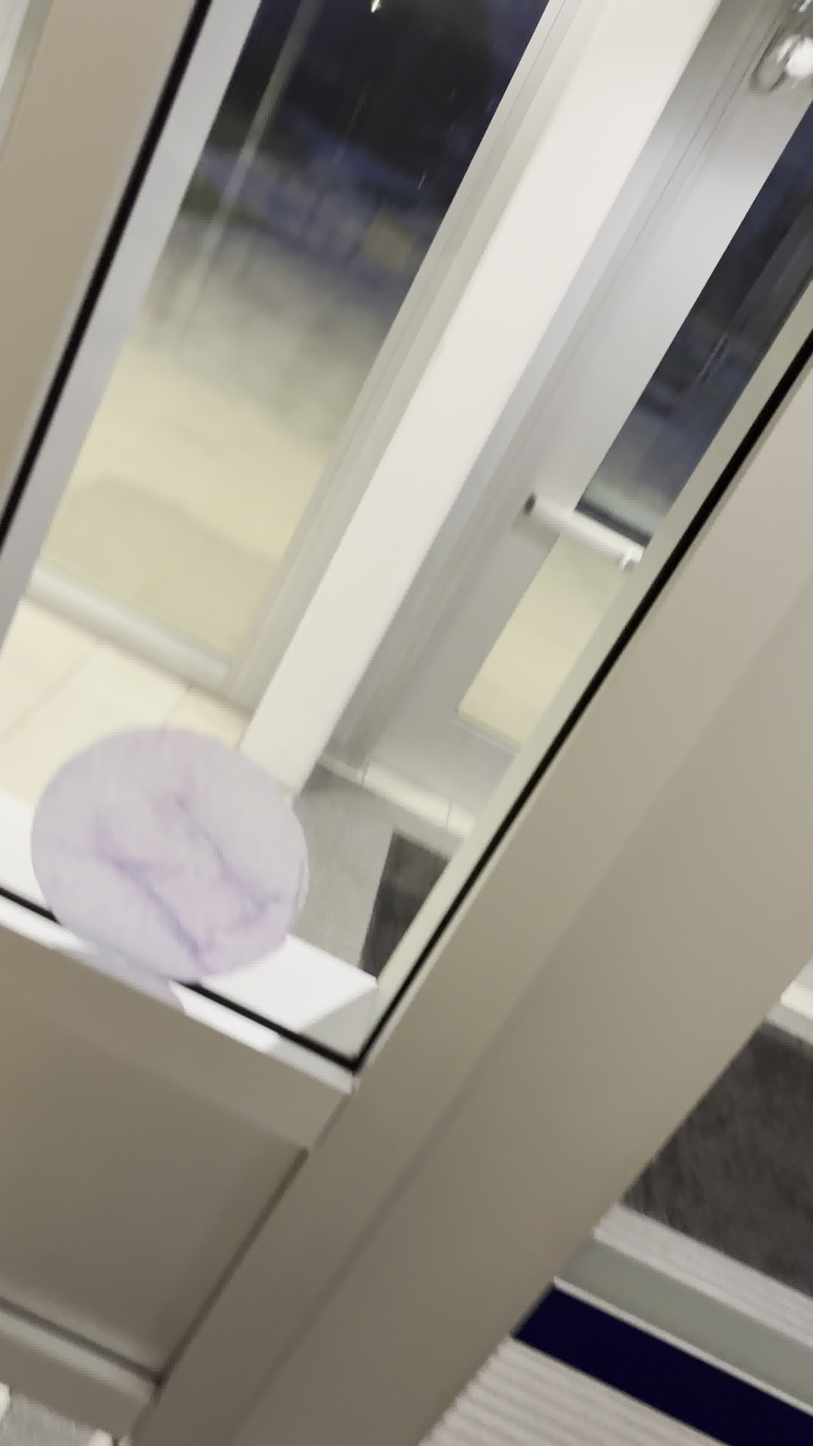Target: (27, 719, 313, 985)
